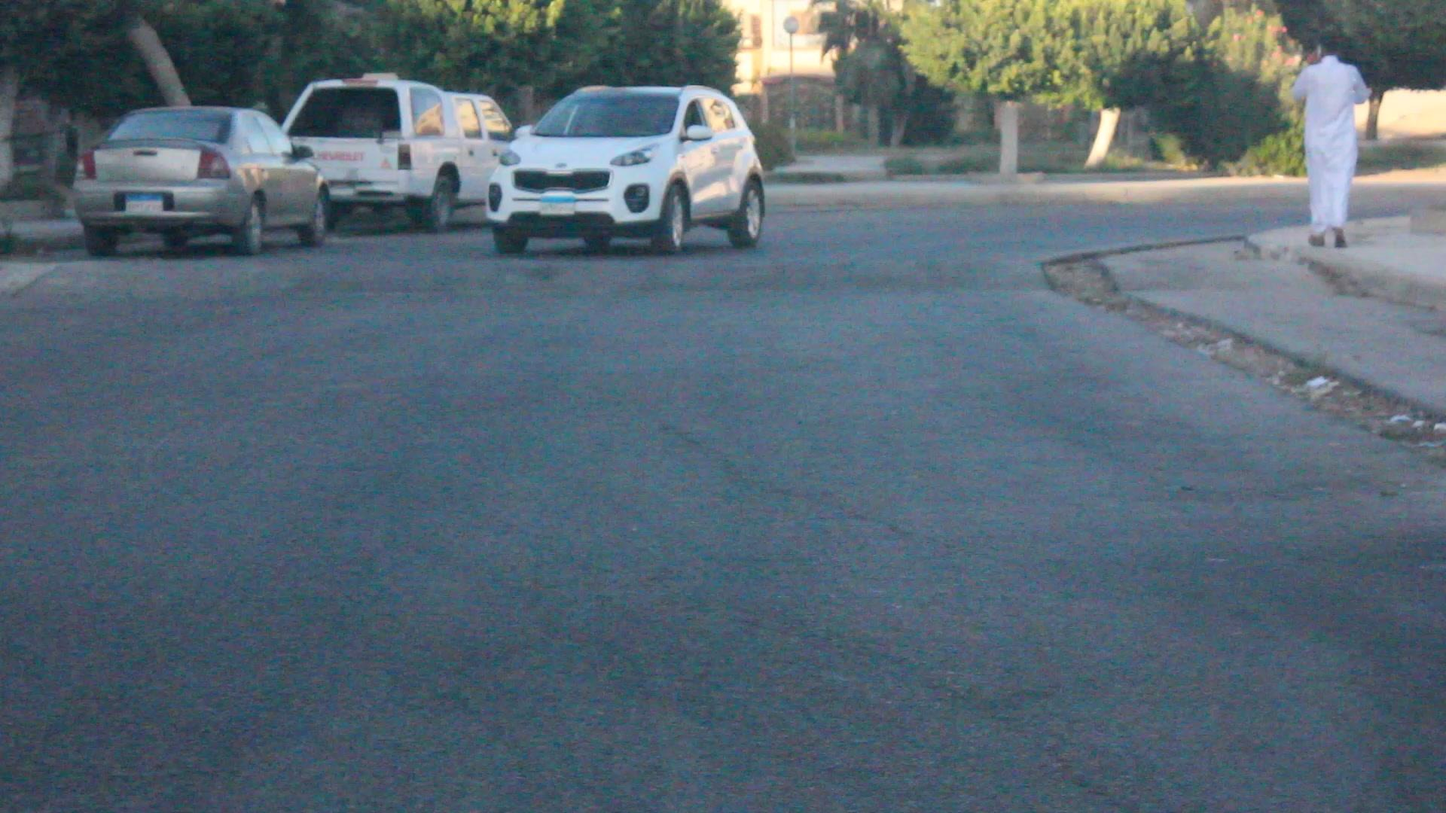Bump: (19, 244, 1061, 303)
